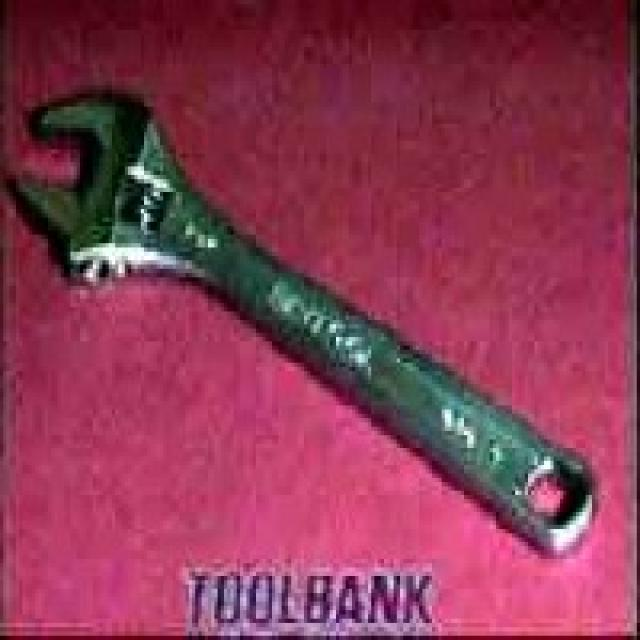wrench: (6, 77, 640, 533)
